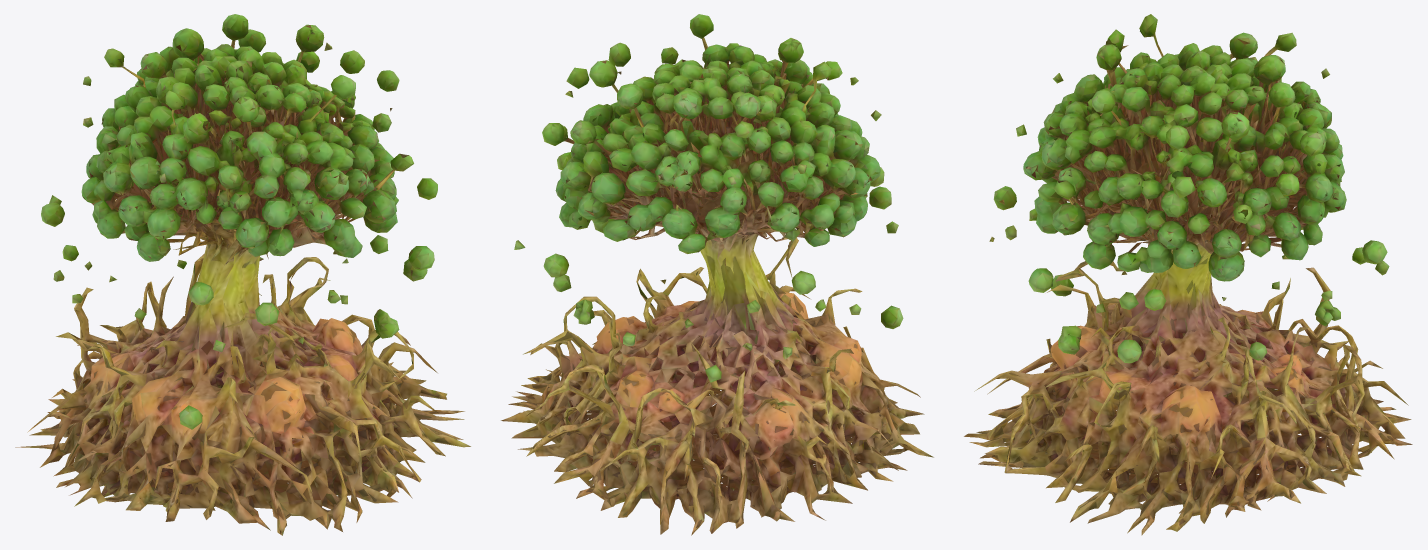
File: colony.glb
3 views of the same model, side by side, from view 1: azimuth 30°, elevation 25°; view 2: azimuth 150°, elevation 25°; view 3: azimuth 270°, elevation 25° (orthographic). The views are drawn at different scales.
Parts seen in each view (by area): view 1: attack-membrane; view 2: attack-membrane; view 3: attack-membrane.
Part boxes in pixels (x1,y1,x2,y2): attack-membrane: [15, 14, 470, 535]; attack-membrane: [501, 14, 933, 535]; attack-membrane: [964, 14, 1412, 535].
Size of the model in its own units: 2.01 by 1.93 by 2.02.
1 material, 1 textured.
